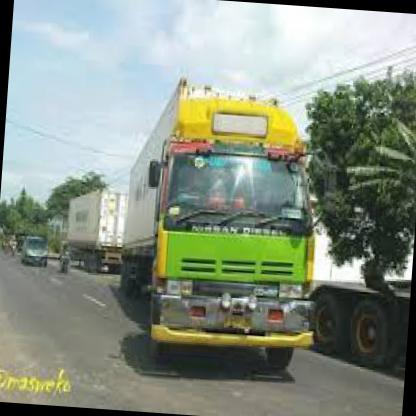truck: (142, 131, 330, 383)
